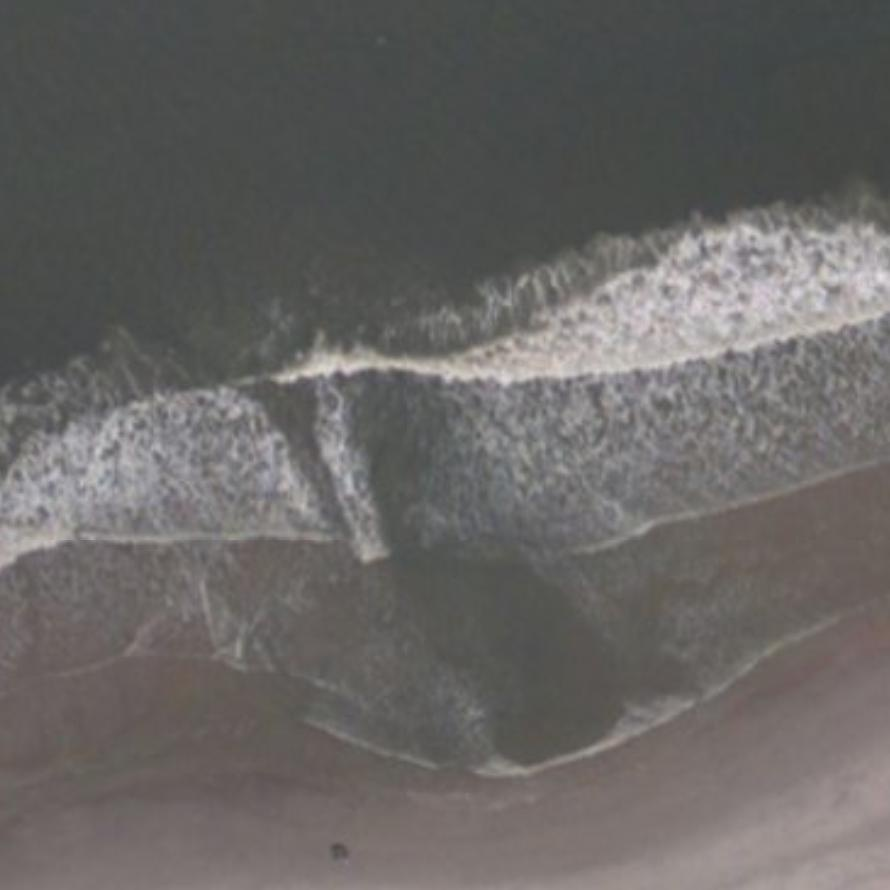rip_current: (240, 307, 660, 693)
